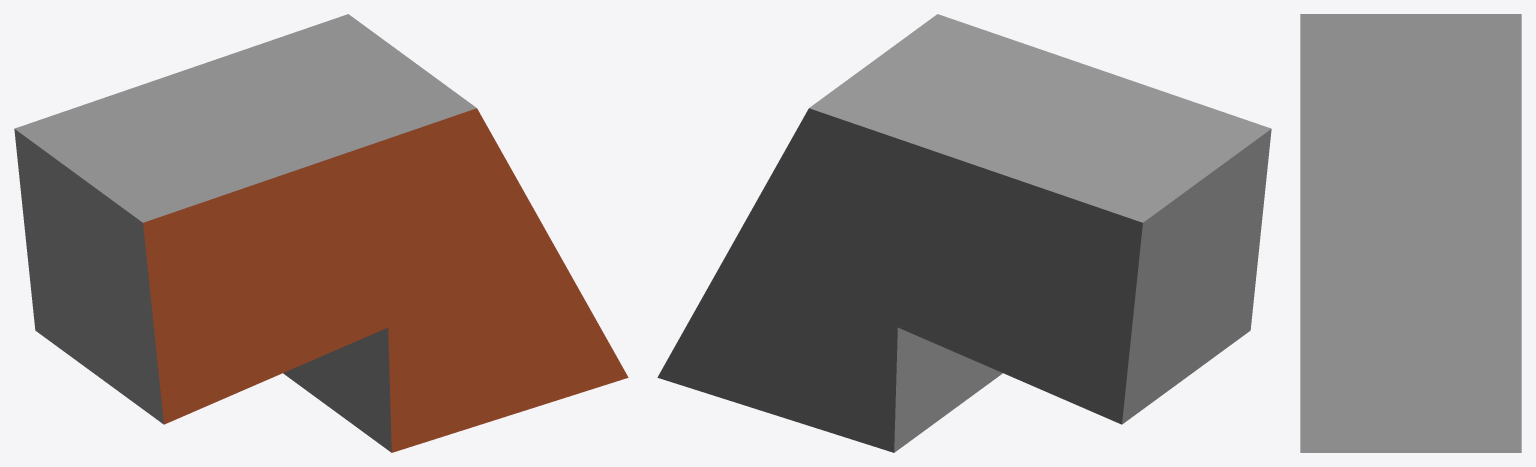
Rendered from construction_0380_assumed_A_Casa_h6m.obj.
3 views of the same model, side by side, from view 1: azimuth 30°, elevation 25°; view 2: azimuth 150°, elevation 25°; view 3: azimuth 270°, elevation 25° (orthographic). The views are drawn at different scales.
Parts seen in each view (by area): view 1: construction_0380_assumed_A_Casa; view 2: construction_0380_assumed_A_Casa; view 3: construction_0380_assumed_A_Casa.
Boxes of the visible parts, box(x1,y1,x2,y2) form: construction_0380_assumed_A_Casa: box(14, 14, 628, 452); construction_0380_assumed_A_Casa: box(657, 14, 1271, 452); construction_0380_assumed_A_Casa: box(1300, 14, 1521, 452).
Bounding box in the file's own units: 13.07 × 8.33 × 6.
